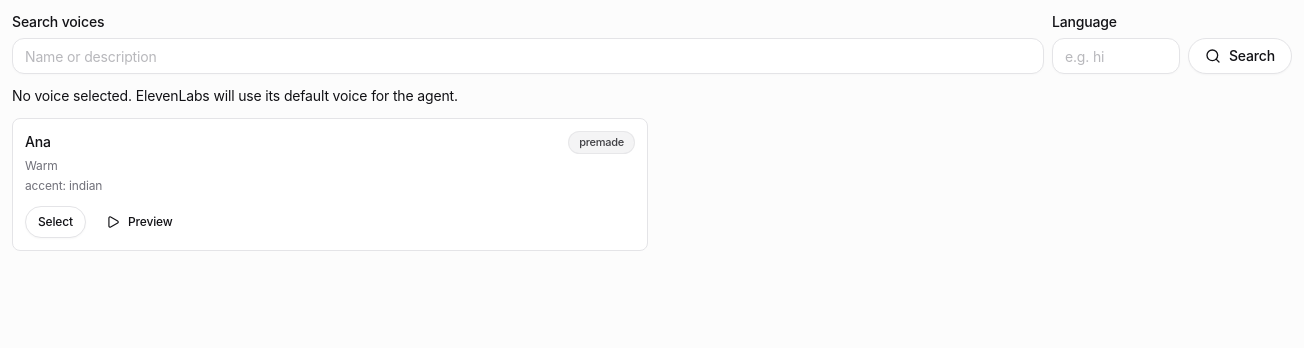
Test: VoicePicker › requests a real text-to-speech preview and reports its failure
This screenshot has width=1304, height=348.
Expected: the text "Ana" is shown, top-left (25, 131), bottom-right (51, 152)
Click the button "Preview" at (139, 222), box top-left (94, 206), bottom-right (185, 238)
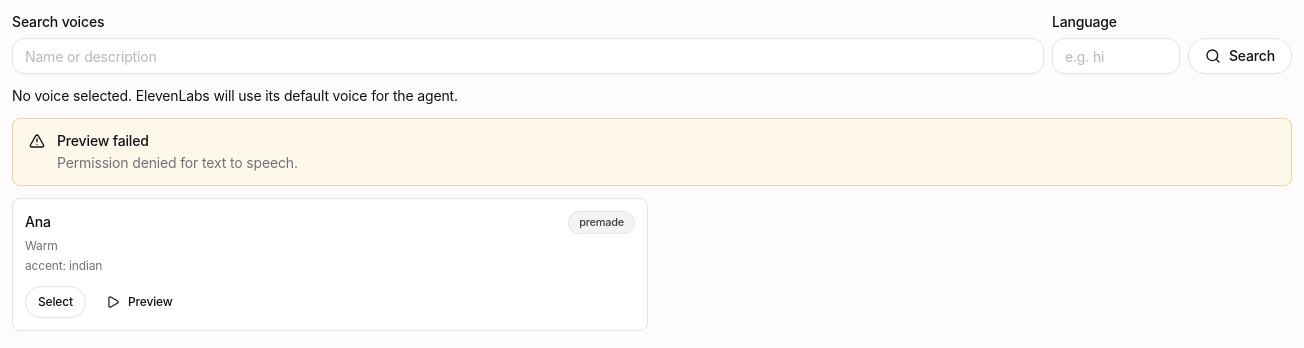
Expected: the text "Permission denied for text to speech." is shown, top-left (57, 153), bottom-right (298, 173)
